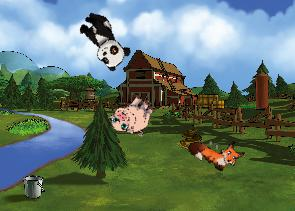fox: (185, 122, 247, 179)
panda: (72, 7, 134, 73)
pig: (105, 87, 160, 143)
